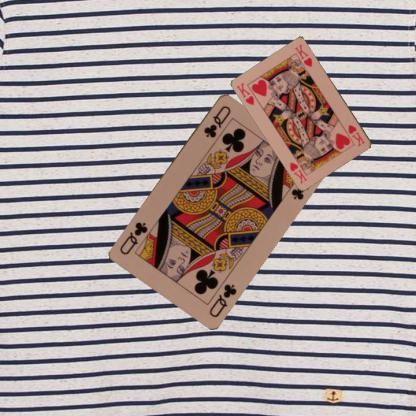Kh: (234, 80, 257, 107), (346, 122, 366, 148)
Qc: (206, 281, 238, 318), (201, 102, 232, 139)
